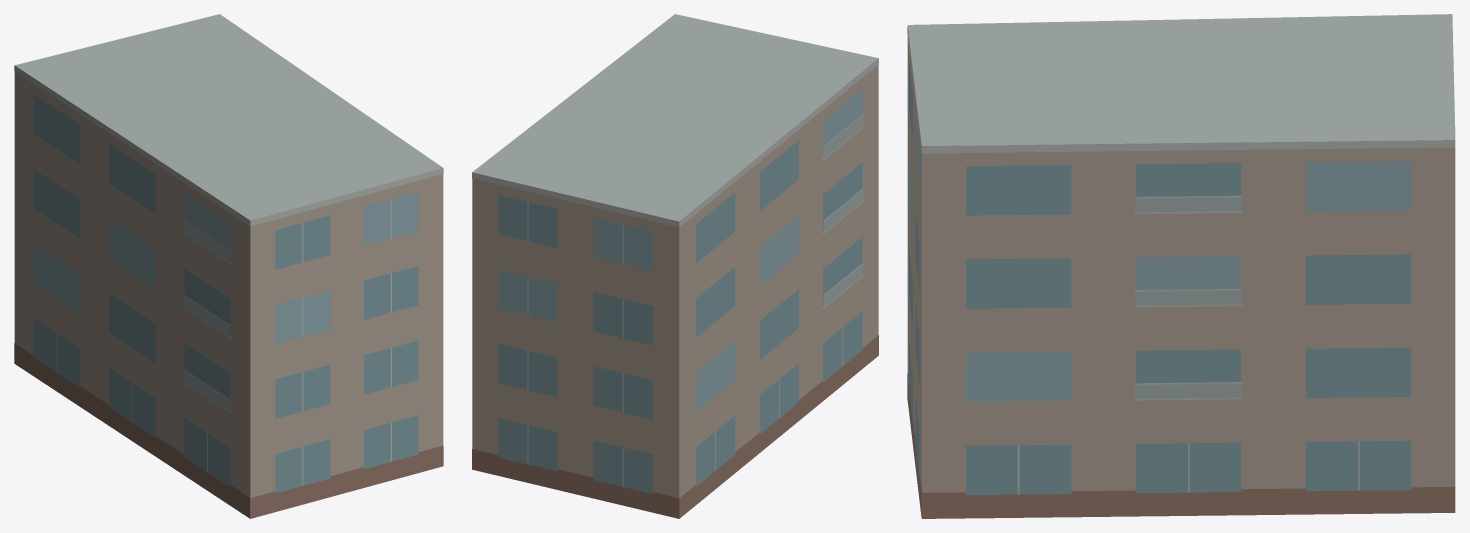
The model's file is survey-upis-32772033.glb.
3 renders of one model, left to right at view 1: azimuth 30°, elevation 25°; view 2: azimuth 150°, elevation 25°; view 3: azimuth 270°, elevation 25°, orthographic. The views are drawn at different scales.
Parts seen in each view (by area): view 1: survey-upis-32772033.tmp; view 2: survey-upis-32772033.tmp; view 3: survey-upis-32772033.tmp.
Boxes of the visible parts, left/top/right/bottom form: survey-upis-32772033.tmp: left=14, top=14, right=443, bottom=518; survey-upis-32772033.tmp: left=472, top=14, right=878, bottom=518; survey-upis-32772033.tmp: left=907, top=14, right=1455, bottom=518.
Size of the model in its own units: 9.28 by 12.2 by 16.27.
